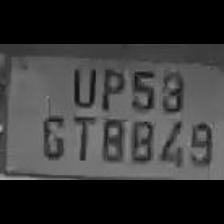4: (155, 116, 185, 166)
5: (127, 66, 157, 110)
8: (156, 65, 186, 112), (125, 116, 154, 164), (98, 114, 124, 164)
9: (186, 117, 212, 165)
G: (38, 113, 66, 161)
P: (96, 64, 126, 110)
T: (68, 112, 96, 162)
U: (67, 62, 97, 108)
